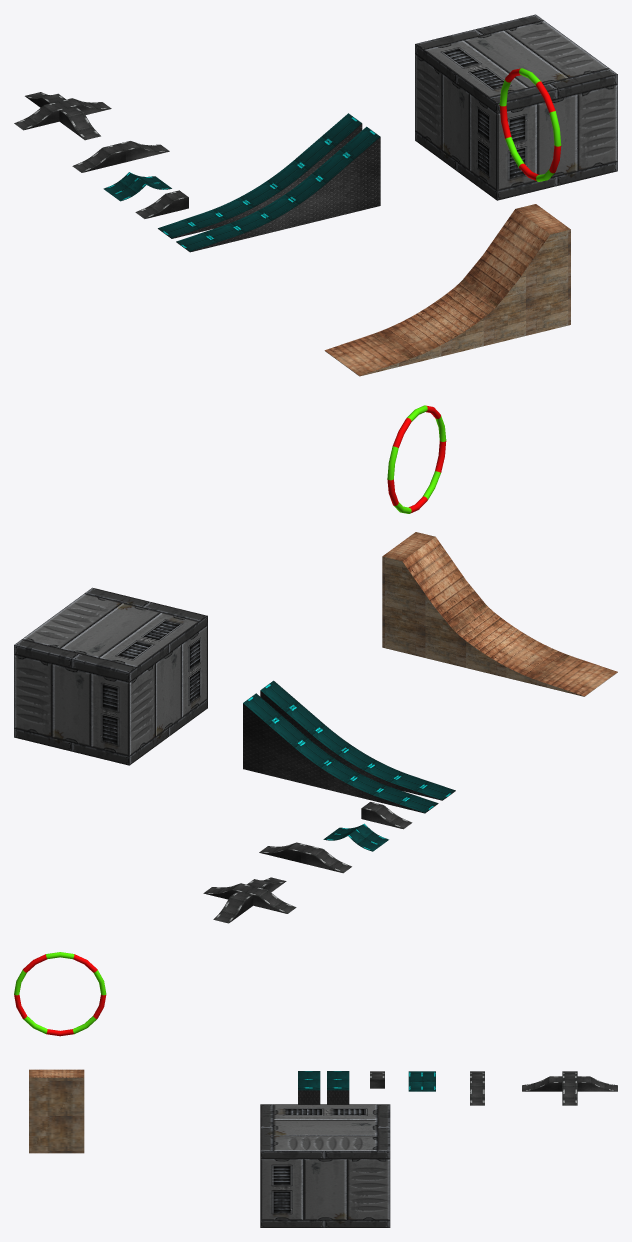
File: Stunts Prefabs.fbx
The picture shows the model from 3 angles, top to bottom: view 1: azimuth 30°, elevation 25°; view 2: azimuth 150°, elevation 25°; view 3: azimuth 270°, elevation 25°; orthographic projection. The views are drawn at different scales.
Visible parts, largest first — view 1: Stunt_02_box, Stunt_01, Stunt_02_a, Stunt_02_b, Stunt_06, Ring, Stunt_05, Stunt_04, Stunt_03; view 2: Stunt_02_box, Stunt_01, Stunt_02_b, Stunt_02_a, Stunt_06, Ring, Stunt_05, Stunt_04, Stunt_03; view 3: Stunt_02_box, Stunt_01, Ring, Stunt_06, Stunt_02_a, Stunt_02_b, Stunt_04, Stunt_05.
Part boxes in pixels (x1=…): Stunt_02_box: x1=415, y1=14, x2=617, y2=200; Stunt_01: x1=324, y1=204, x2=570, y2=376; Stunt_02_a: x1=176, y1=126, x2=380, y2=252; Stunt_02_b: x1=158, y1=113, x2=362, y2=238; Stunt_06: x1=14, y1=92, x2=111, y2=140; Ring: x1=499, y1=68, x2=561, y2=181; Stunt_05: x1=72, y1=141, x2=169, y2=172; Stunt_04: x1=103, y1=172, x2=171, y2=201; Stunt_03: x1=135, y1=190, x2=188, y2=218; Stunt_02_box: x1=14, y1=587, x2=207, y2=765; Stunt_01: x1=382, y1=532, x2=617, y2=696; Stunt_02_b: x1=243, y1=693, x2=438, y2=813; Stunt_02_a: x1=260, y1=680, x2=455, y2=800; Stunt_06: x1=203, y1=877, x2=296, y2=923; Ring: x1=387, y1=405, x2=446, y2=513; Stunt_05: x1=259, y1=842, x2=351, y2=873; Stunt_04: x1=323, y1=823, x2=388, y2=851; Stunt_03: x1=361, y1=802, x2=412, y2=829; Stunt_02_box: x1=260, y1=1104, x2=390, y2=1227; Stunt_01: x1=29, y1=1069, x2=84, y2=1153; Ring: x1=14, y1=952, x2=106, y2=1036; Stunt_06: x1=522, y1=1071, x2=617, y2=1105; Stunt_02_a: x1=298, y1=1071, x2=320, y2=1104; Stunt_02_b: x1=327, y1=1071, x2=349, y2=1104; Stunt_04: x1=408, y1=1071, x2=435, y2=1091; Stunt_05: x1=470, y1=1071, x2=484, y2=1105.
Bounding box in the file's own units: 307 × 176 × 500.
7 materials, 7 textured.
